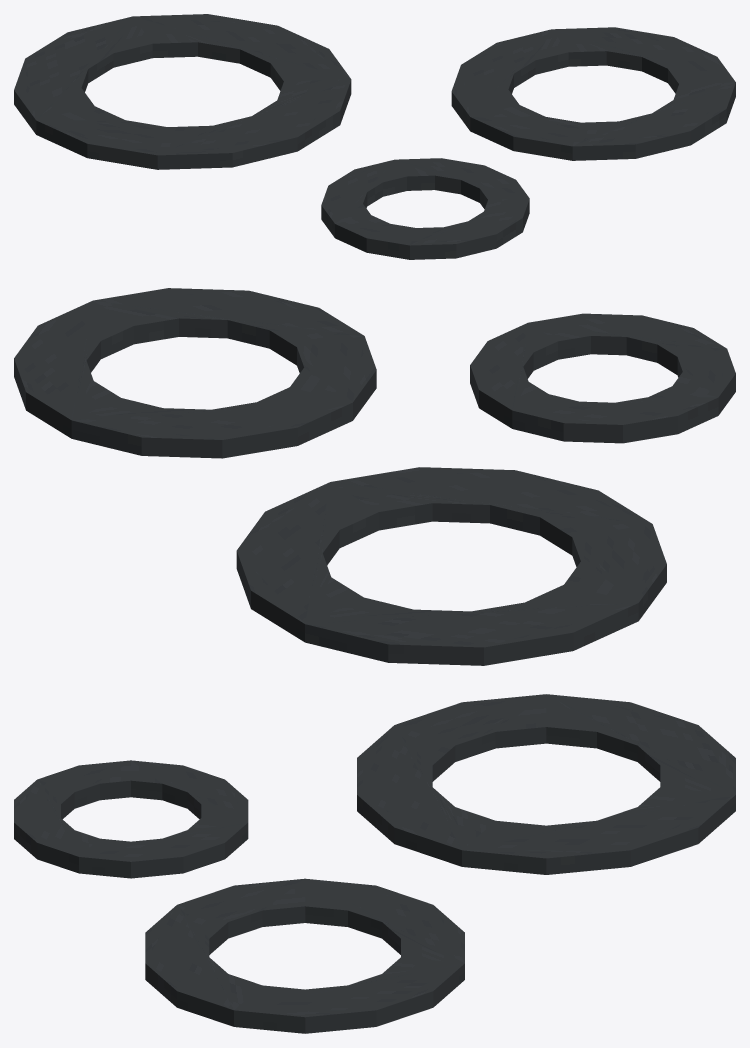
The model's file is gasket_plastic_set.glb.
The picture shows the model from 3 angles, top to bottom: view 1: azimuth 30°, elevation 25°; view 2: azimuth 150°, elevation 25°; view 3: azimuth 270°, elevation 25°; orthographic projection. The views are drawn at different scales.
Visible parts, largest first — view 1: block_plastic gasket (×3); view 2: block_plastic gasket (×3); view 3: block_plastic gasket (×3).
Part boxes in pixels (x1,y1,x2,y2): block_plastic gasket (×3): (14,14,735,259); block_plastic gasket (×3): (14,288,735,665); block_plastic gasket (×3): (14,694,735,1033).
Size of the model in its own units: 0.0851 by 0.00204 by 0.0804.
1 material, 1 textured.
